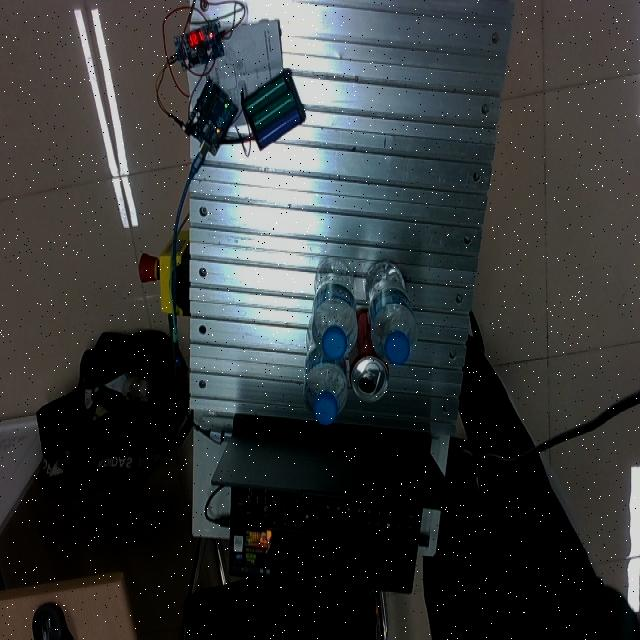coca: (349, 308, 389, 403)
lavie: (365, 260, 415, 365), (310, 257, 358, 363), (302, 326, 348, 426)
